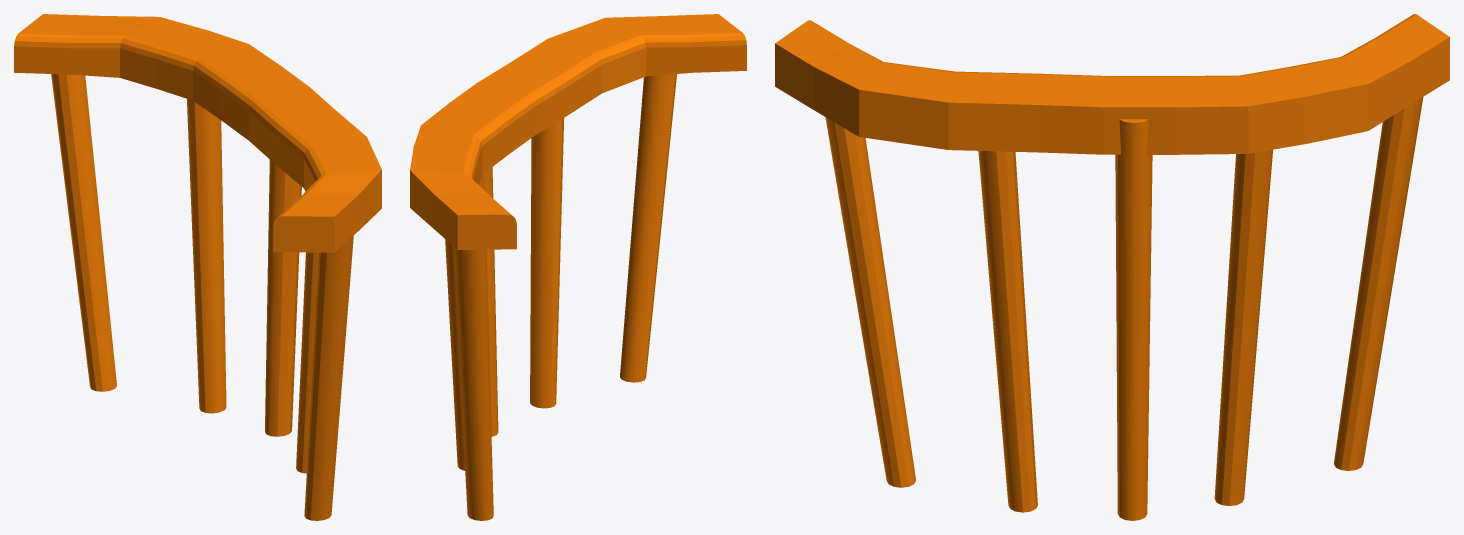
Rendered from sandalye_srtlg.fbx.
3 views of the same model, side by side, from view 1: azimuth 30°, elevation 25°; view 2: azimuth 150°, elevation 25°; view 3: azimuth 270°, elevation 25° (orthographic). The views are drawn at different scales.
Visible parts, largest first — view 1: Sırt; view 2: Sırt; view 3: Sırt.
Part boxes in pixels (box(x1,y1,x2,y2)): Sırt: box(14, 14, 381, 520); Sırt: box(410, 14, 746, 520); Sırt: box(775, 14, 1449, 520).
Size of the model in its own units: 49.84 by 94.83 by 139.
